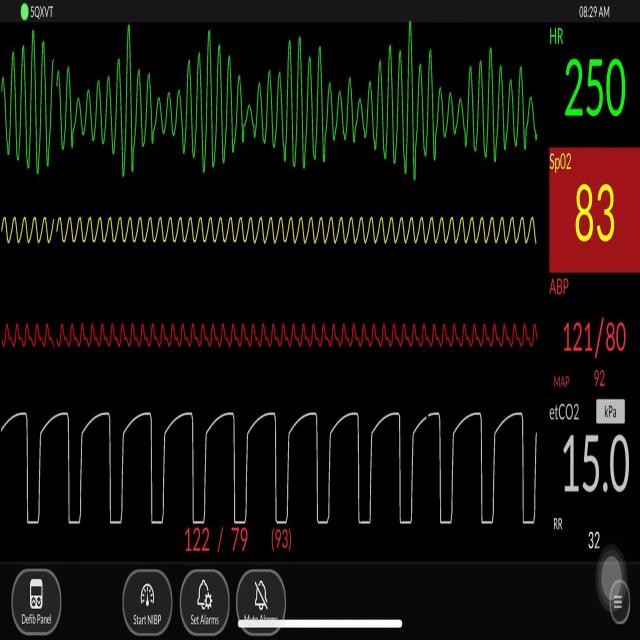danger: (5, 34, 541, 193)
